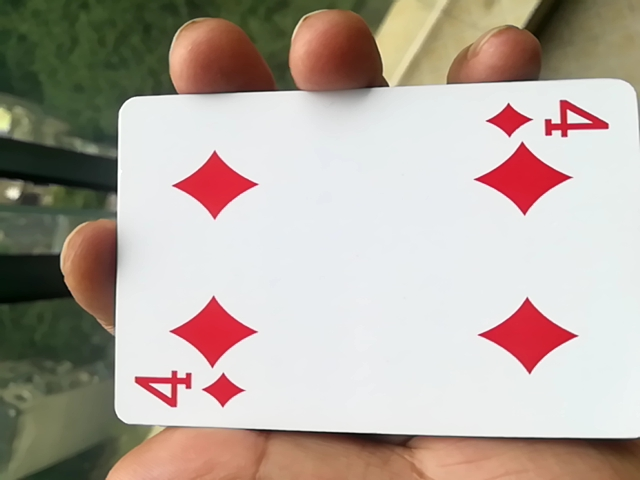fk 4: (93, 92, 636, 452)
